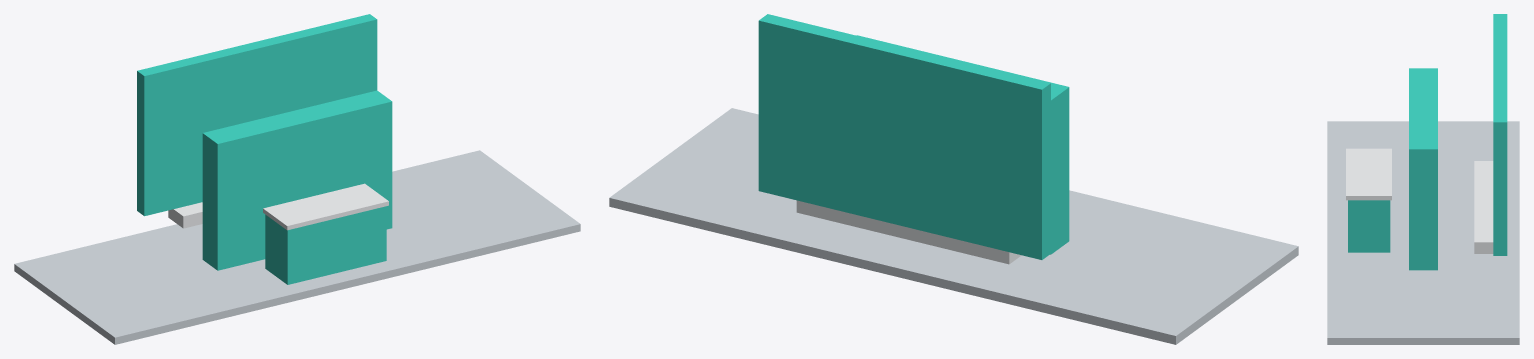
3 renders of one model, left to right at view 1: azimuth 30°, elevation 25°; view 2: azimuth 150°, elevation 25°; view 3: azimuth 270°, elevation 25°, orthographic. The views are drawn at different scales.
Parts seen in each view (by area): view 1: Exhibition Booth Concept; view 2: Exhibition Booth Concept; view 3: Exhibition Booth Concept.
Boxes of the visible parts, x1,y1,x2,y2 form: Exhibition Booth Concept: (14,14,580,344); Exhibition Booth Concept: (609,14,1298,344); Exhibition Booth Concept: (1327,14,1519,344).
Size of the model in its own units: 8 by 2.9 by 3.
